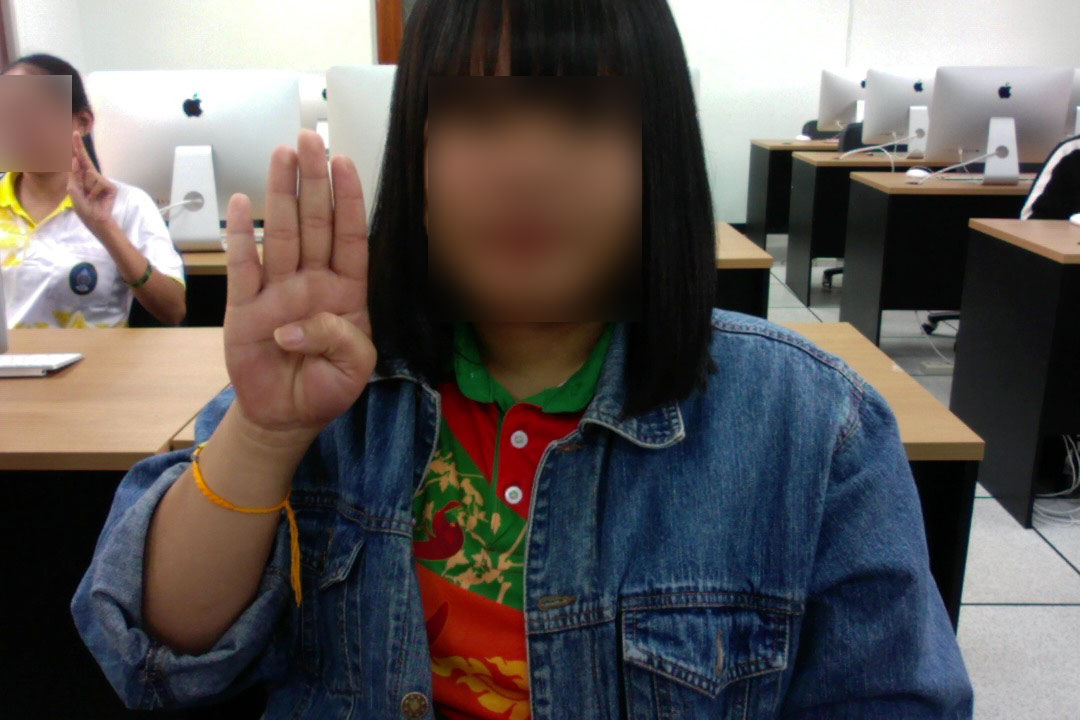bor: (214, 122, 382, 453)
